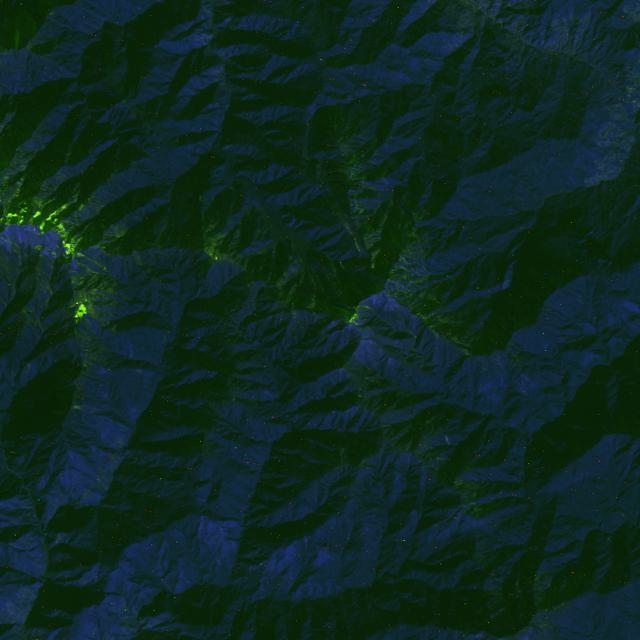landslides: (351, 136, 375, 162), (399, 255, 429, 274), (71, 405, 117, 415), (353, 187, 379, 203), (396, 273, 423, 286), (15, 3, 21, 50), (422, 311, 442, 324), (333, 305, 350, 318), (349, 167, 369, 178), (258, 260, 269, 277), (389, 266, 412, 274), (83, 263, 98, 273), (358, 207, 379, 214), (410, 275, 426, 284), (625, 86, 637, 96), (293, 290, 302, 303), (401, 295, 414, 304), (430, 321, 446, 328), (79, 229, 89, 239)
